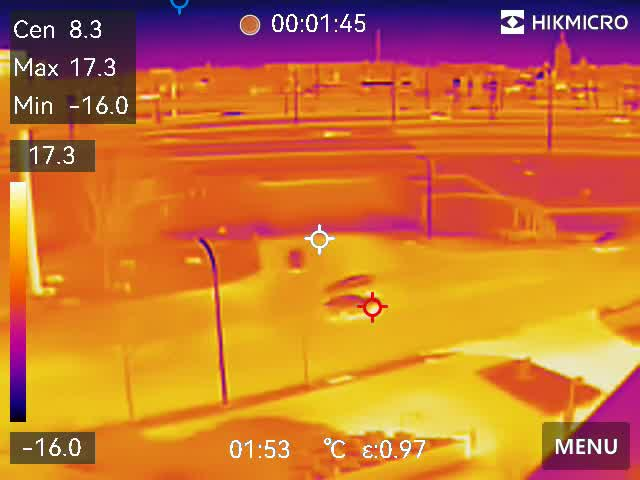smallCar: (286, 243, 311, 275)
vehicle: (322, 294, 383, 316), (322, 274, 375, 293), (592, 230, 624, 253), (599, 112, 633, 127), (425, 111, 460, 125), (319, 129, 357, 141)
